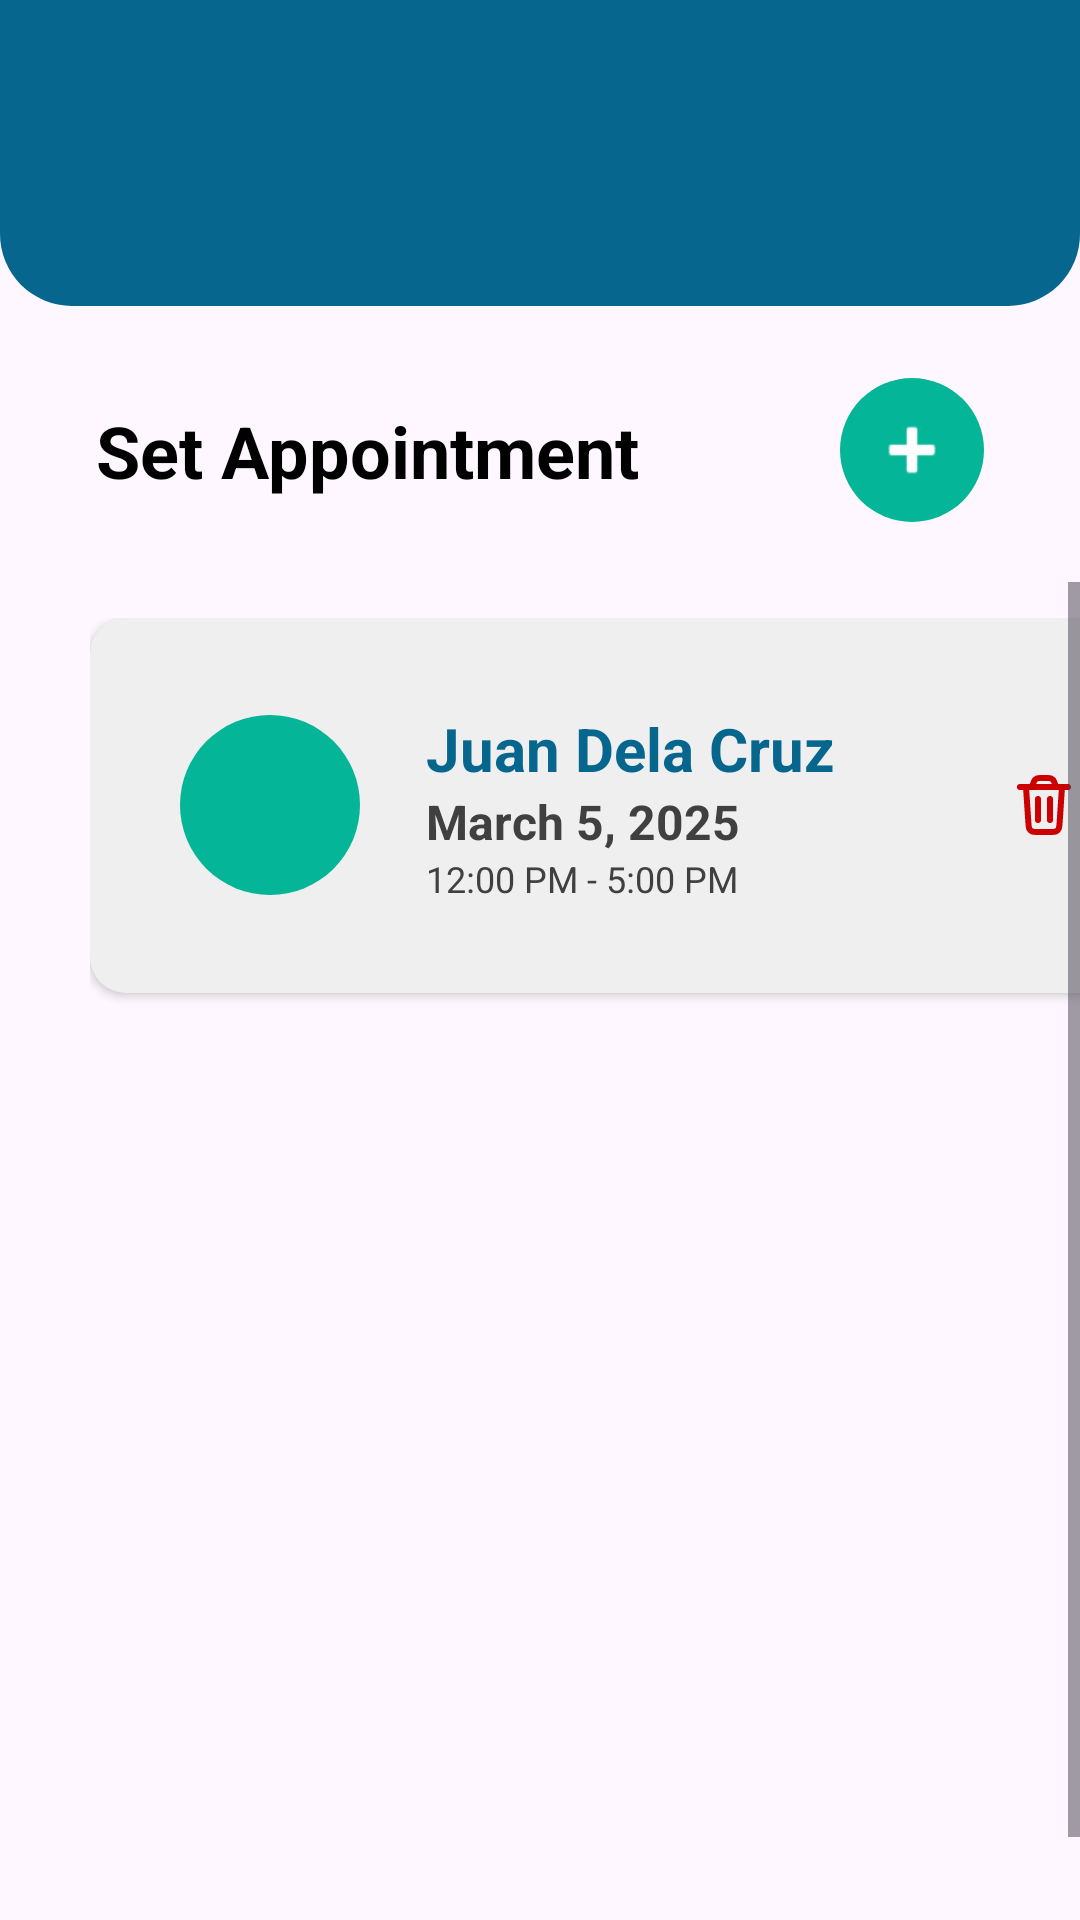

Named icons in this screenshot (1080 x 1920) and their bounding boxes, (x1, y1, x2, y2):
Add Appointment: (840, 378, 984, 522)
Delete: (1017, 769, 1080, 841)
